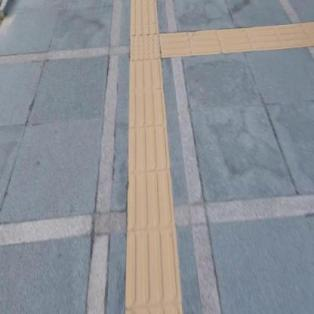Podoctatil: (124, 60, 186, 314), (162, 18, 314, 59), (119, 17, 174, 80), (129, 0, 160, 35)
